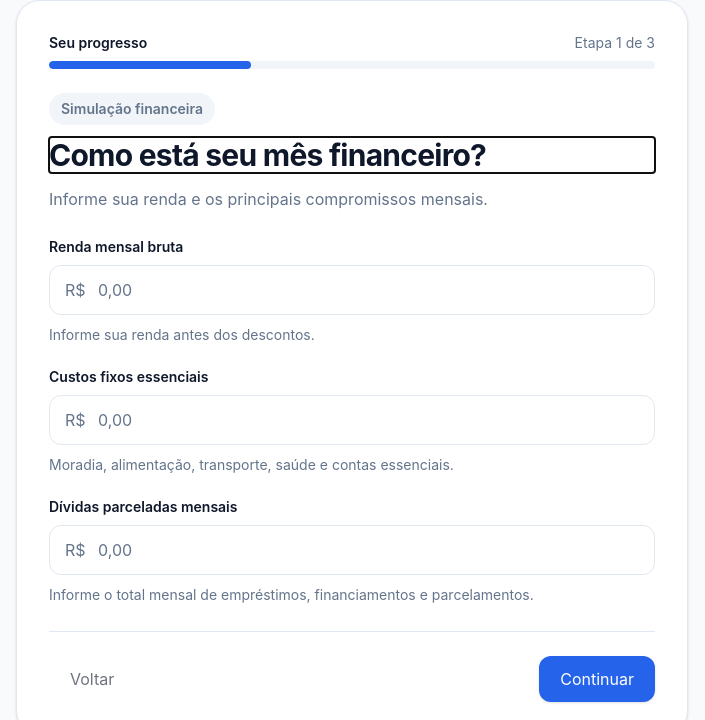
Scenario: SimulationForm › preserva os dados ao voltar para uma etapa anterior
In the field labelled "Renda mensal bruta": (352, 290) [49,265,655,315], type "500000"
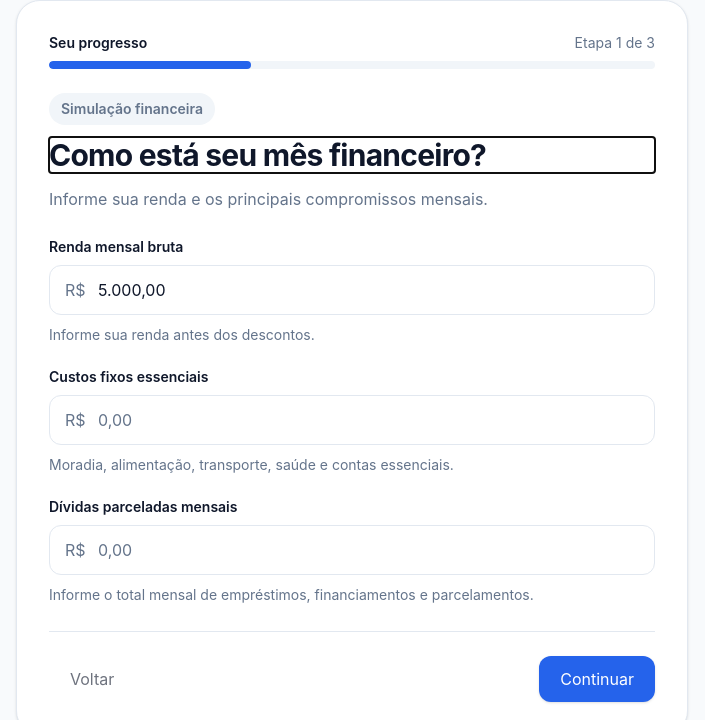
In the field labelled "Custos fixos essenciais": (352, 420) [49,395,655,445], type "250000"
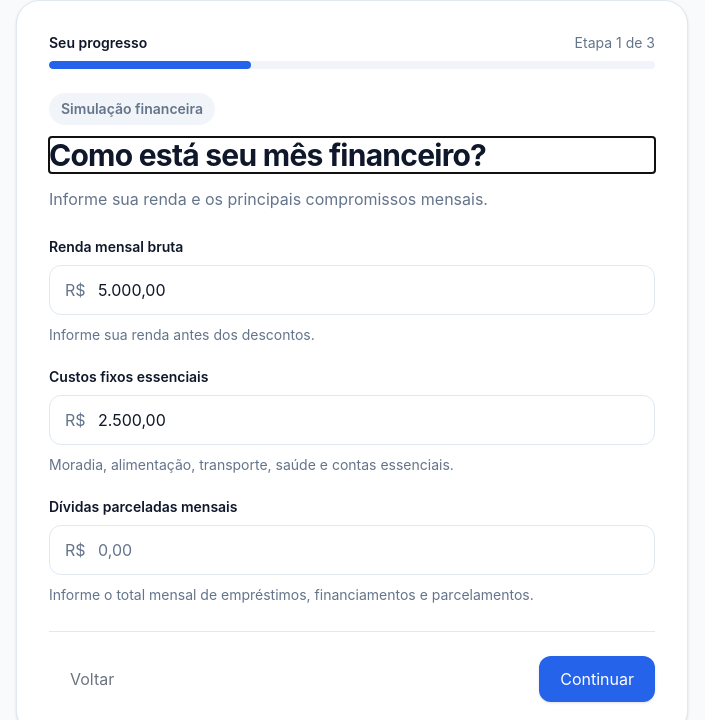
In the field labelled "Dívidas parceladas mensais": (352, 550) [49,525,655,575], type "50000"
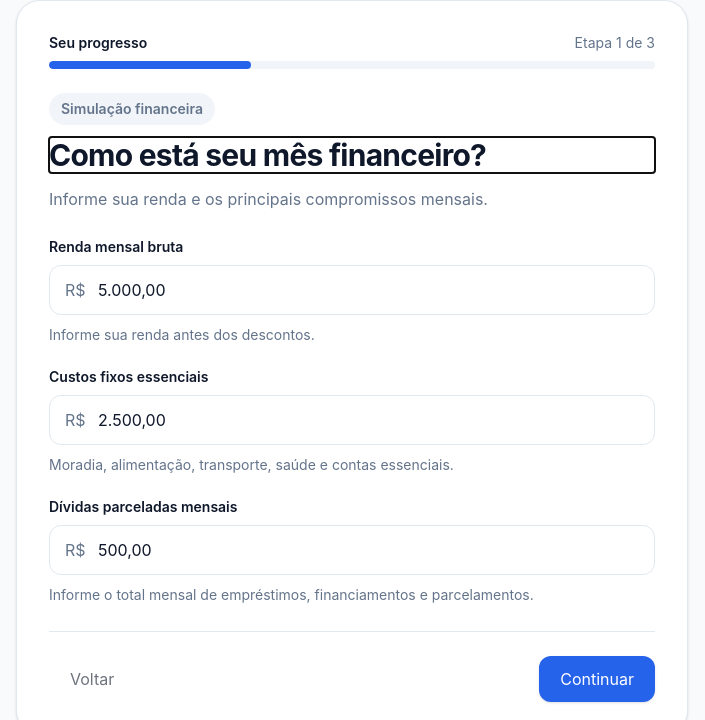
Click the button "Continuar": (597, 679) [539,656,655,702]
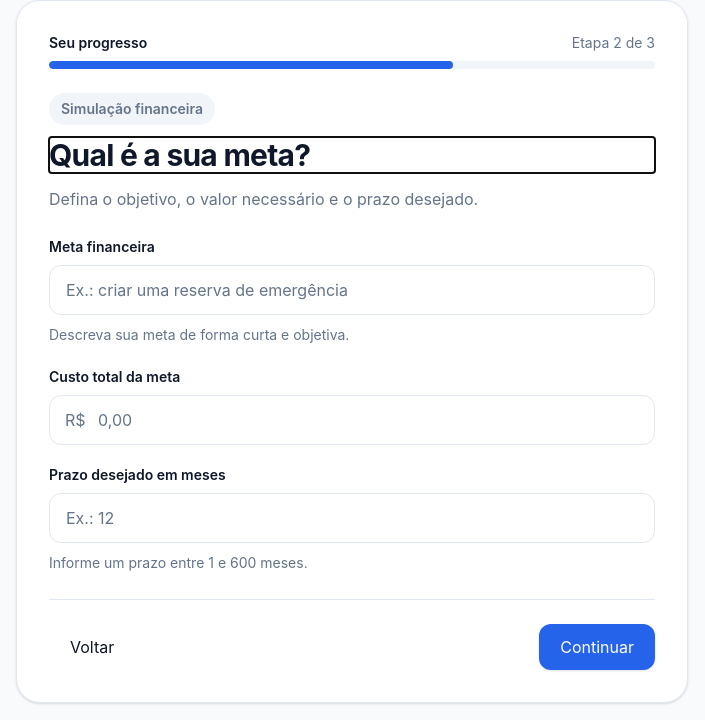
Now the heading "Qual é a sua meta?" is shown, box [49,137,310,173]
Click the button "Voltar": (92, 647) [49,624,135,670]
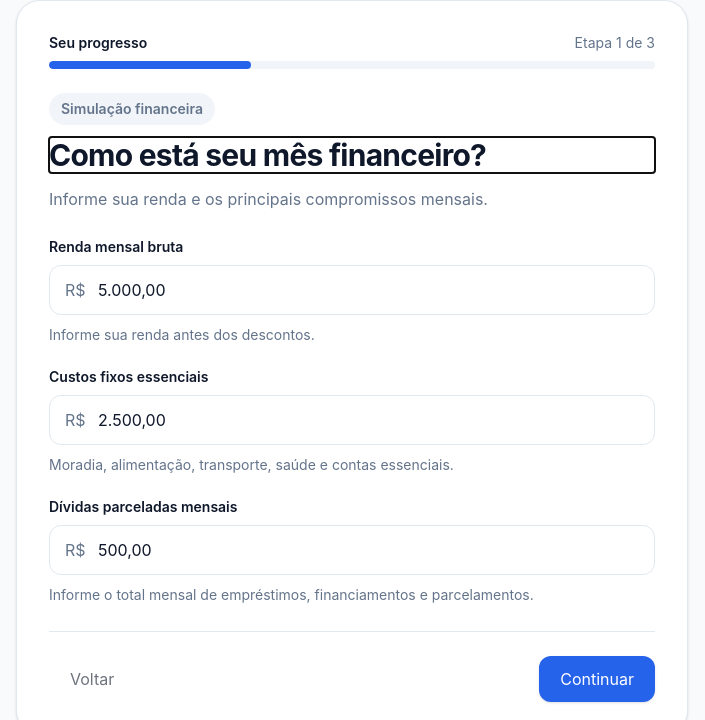
Now the field labelled "Renda mensal bruta" holds "5.000,00", box [49,265,655,315]
Now the field labelled "Custos fixos essenciais" holds "2.500,00", box [49,395,655,445]
Now the field labelled "Dívidas parceladas mensais" holds "500,00", box [49,525,655,575]
